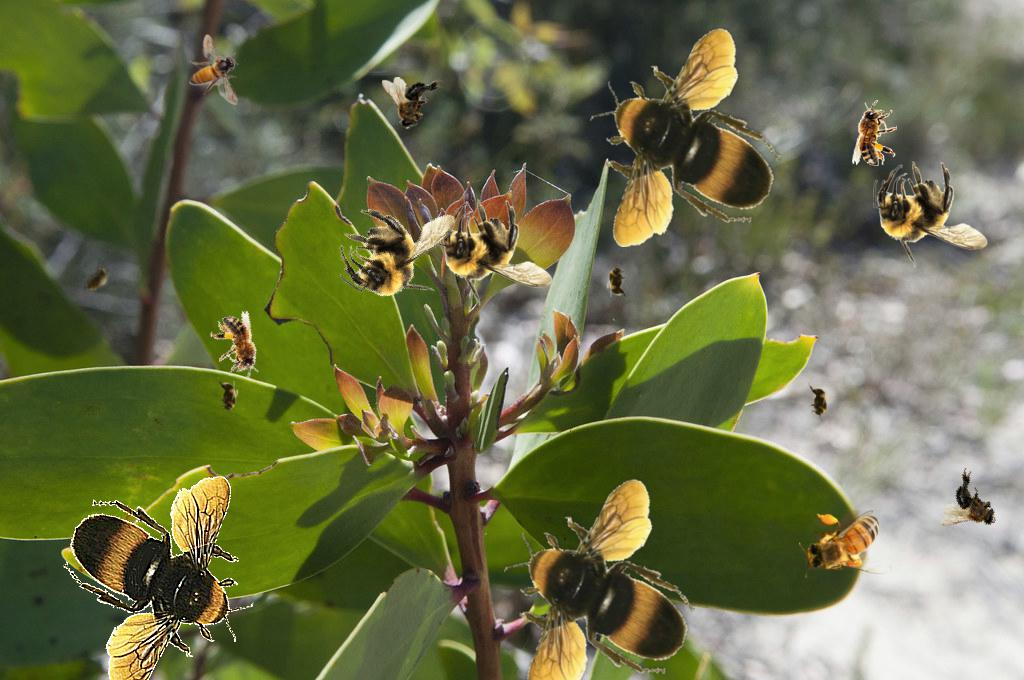Bee: (590, 27, 781, 247), (63, 476, 254, 680), (504, 478, 695, 680), (322, 171, 475, 326), (438, 199, 553, 306), (873, 161, 988, 268), (799, 510, 892, 578), (936, 465, 1011, 545), (204, 308, 272, 387), (189, 34, 239, 105), (382, 77, 444, 130), (852, 100, 897, 166), (73, 258, 119, 302), (217, 377, 239, 417), (808, 382, 830, 422), (606, 261, 628, 301)
